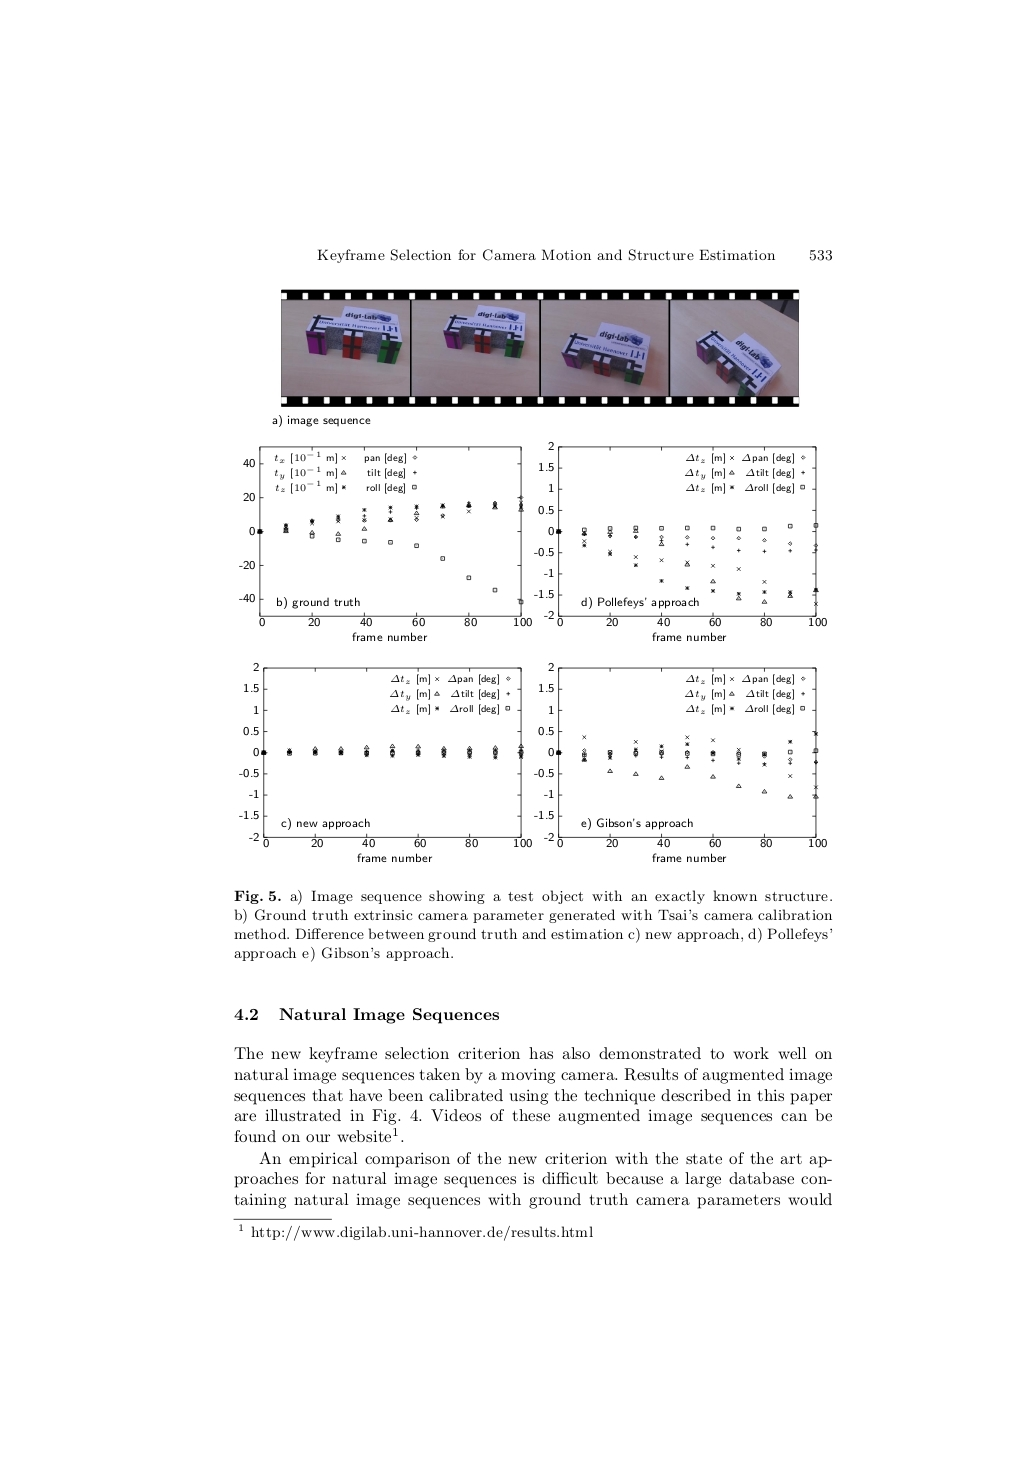figure: (281, 288, 799, 407), (239, 663, 534, 847), (536, 663, 826, 847), (239, 446, 536, 626), (537, 442, 826, 626)
